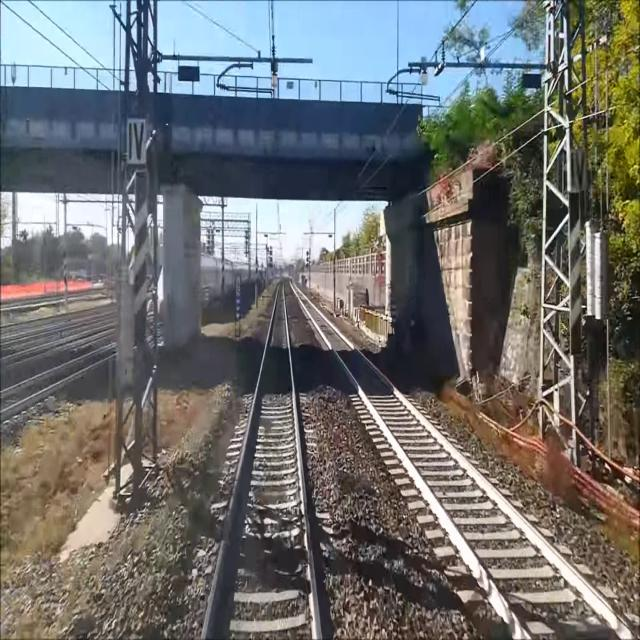rail-track: (291, 279, 637, 639), (205, 282, 317, 639), (0, 344, 117, 408), (0, 328, 104, 366)
